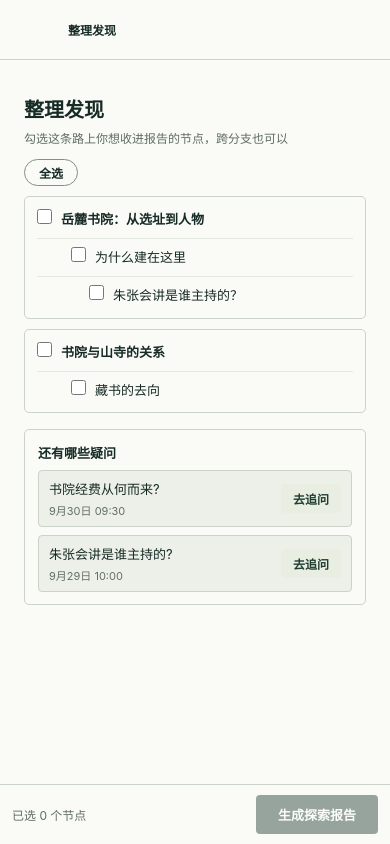
Scenario: SummaryView(成果整理页,FR-E07 勾选阶段) › 默认全不选;「全选」一键勾满 5 个;单行取消联动计数;全选后按钮禁用
Check: the text with class "sel-count" reads "已选 0 个节点", box [12,808,86,823]
Check: the button with class "sum-go" is disabled, box [256,795,378,834]
Click the button with class "sel-all".
click(51, 173)  # box [24,159,78,186]
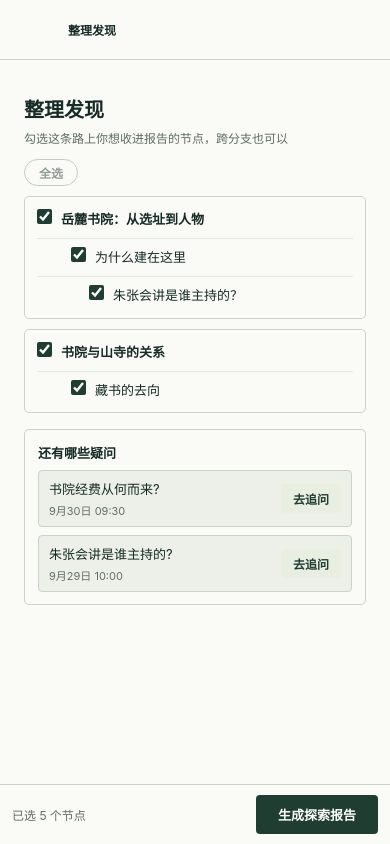
Check: the text with class "sel-count" reads "已选 5 个节点", box [12,808,86,823]
Check: the button with class "sel-all" is disabled, box [24,159,78,186]
Check: the button with class "sum-go" is enabled, box [256,795,378,834]
Click the checkbox labelled "为什么建在这里".
click(78, 255)  # box [71,247,86,262]
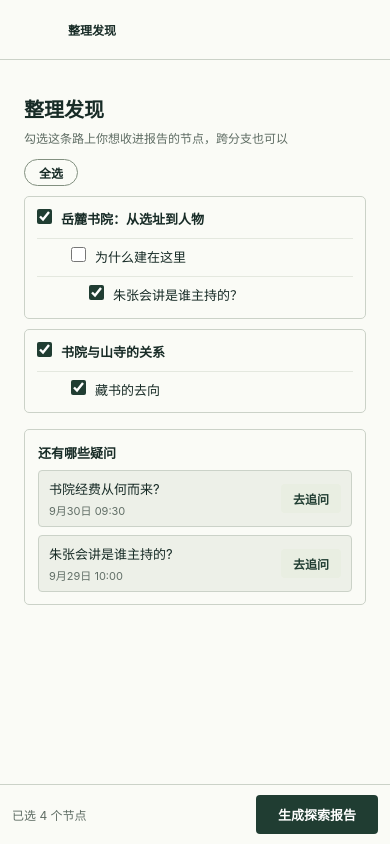
Check: the text with class "sel-count" reads "已选 4 个节点", box [12,808,86,823]
Check: the button with class "sel-all" is enabled, box [24,159,78,186]
